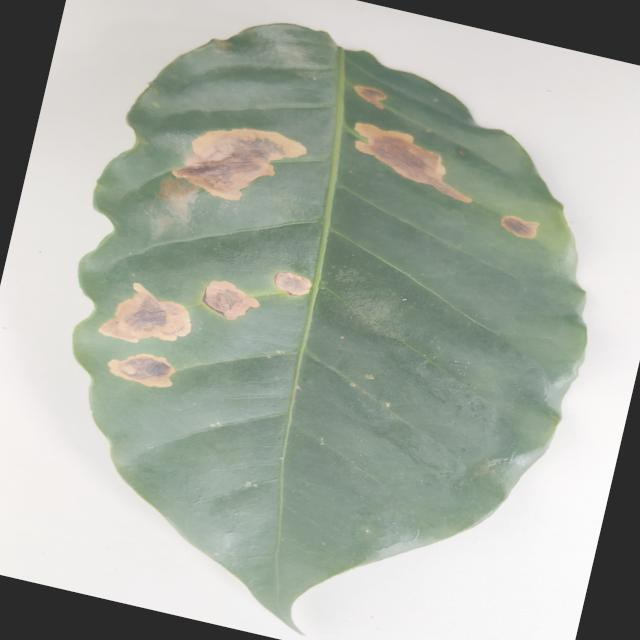PengorokDaunKopi: (172, 129, 306, 200), (355, 123, 471, 202), (98, 283, 190, 342), (203, 281, 259, 320), (108, 354, 174, 387), (158, 178, 197, 214), (274, 272, 311, 295), (501, 215, 538, 238), (354, 85, 386, 109)
